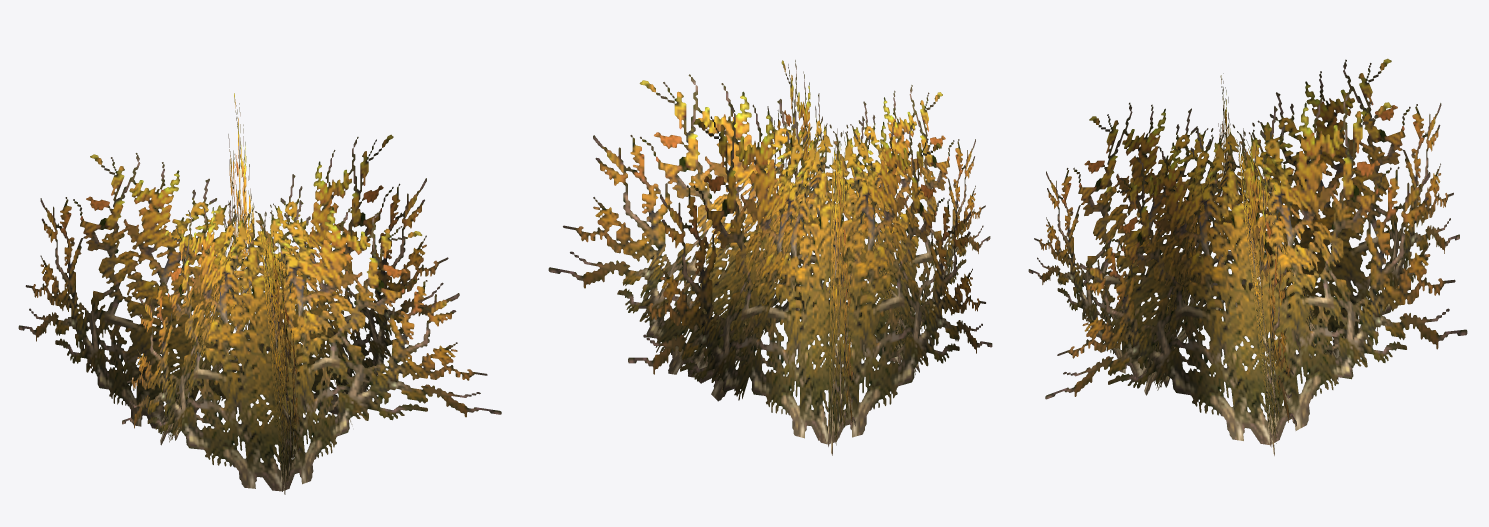
Rendered from westfallbush01.obj.
3 renders of one model, left to right at view 1: azimuth 30°, elevation 25°; view 2: azimuth 150°, elevation 25°; view 3: azimuth 270°, elevation 25°, orthographic. The views are drawn at different scales.
Bounding box in the file's own units: 2.95 × 2.46 × 2.81.
1 material, 1 textured.
